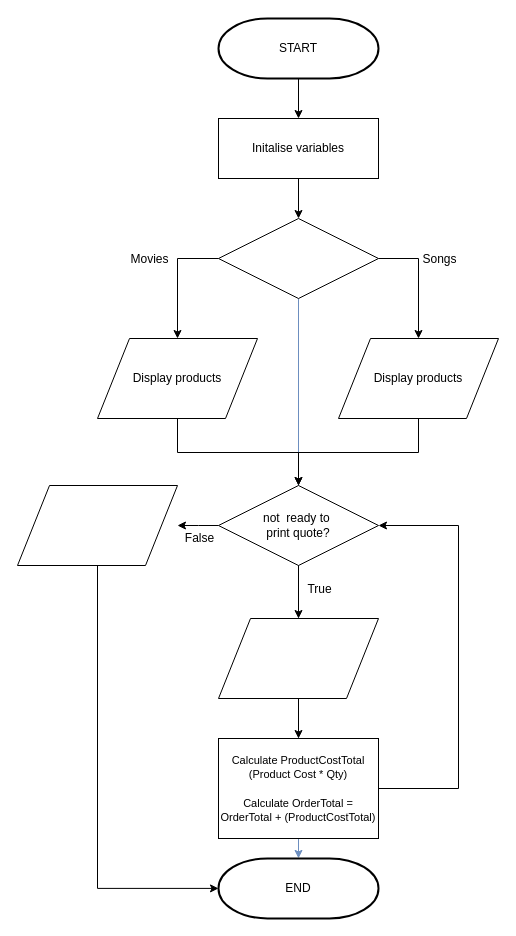
Image size: 516x936. Some labels were removed from this diagram. The centre of each missing label's shape, as x and y in pixels:
Print only units that are checked: [97,525]
Select product add quantity: [298,658]
Select Songs or movies?: [298,258]
